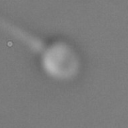normal: (1, 17, 41, 47)
